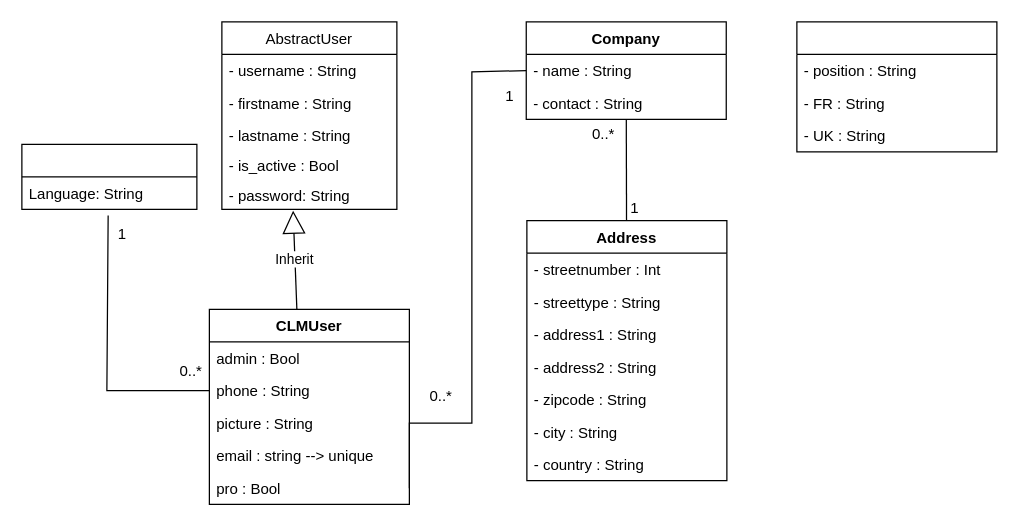
Some shapes in this 1019 by 530 pixel diagram are drawn without their labels. The shapes that lost their labels are listed below. From the top down, each one's box as (x1, y1, x2, y2) in pixels, then its label:
(796, 21, 997, 152): Translation
(21, 143, 197, 209): UserLanguages
